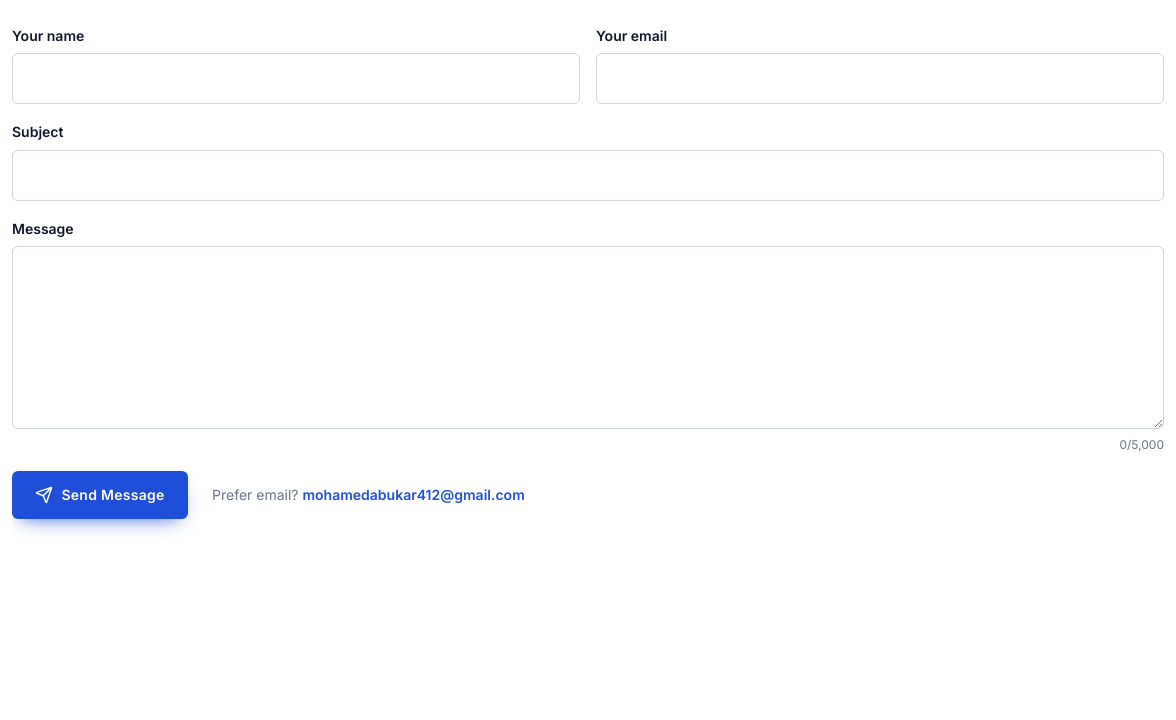
Test: ContactForm › shows field errors returned by the server
Type "Jane Doe" into the field labelled "Your name".
click(296, 79); type("Jane Doe")  # box [12,54,580,104]
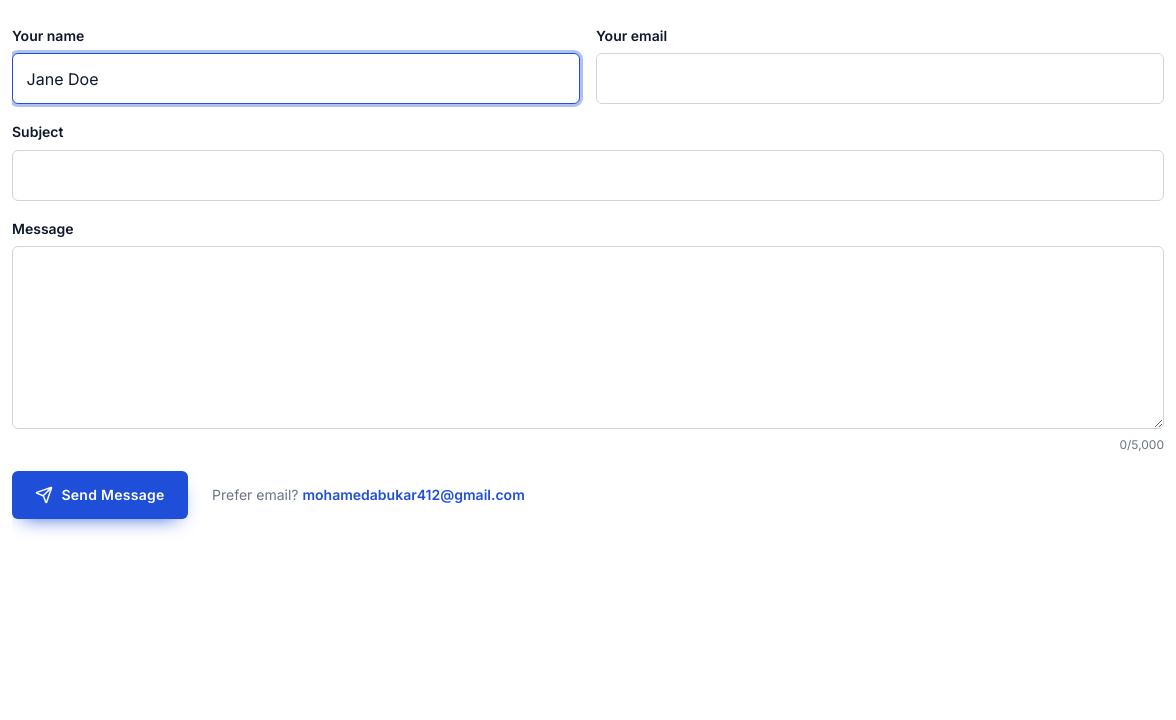
Type "jane@example.com" into the field labelled "Your email".
click(880, 79); type("jane@example.com")  # box [596,54,1164,104]
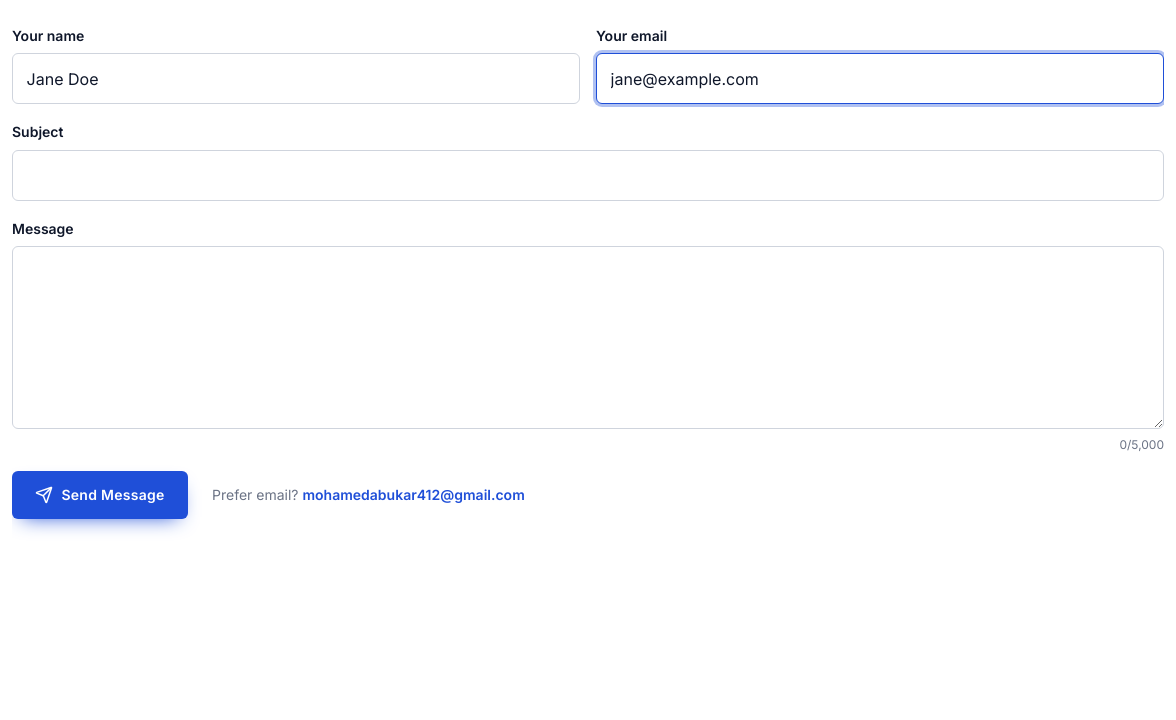
Type "Project enquiry" into the field labelled "Subject".
click(588, 175); type("Project enquiry")  # box [12,150,1164,200]
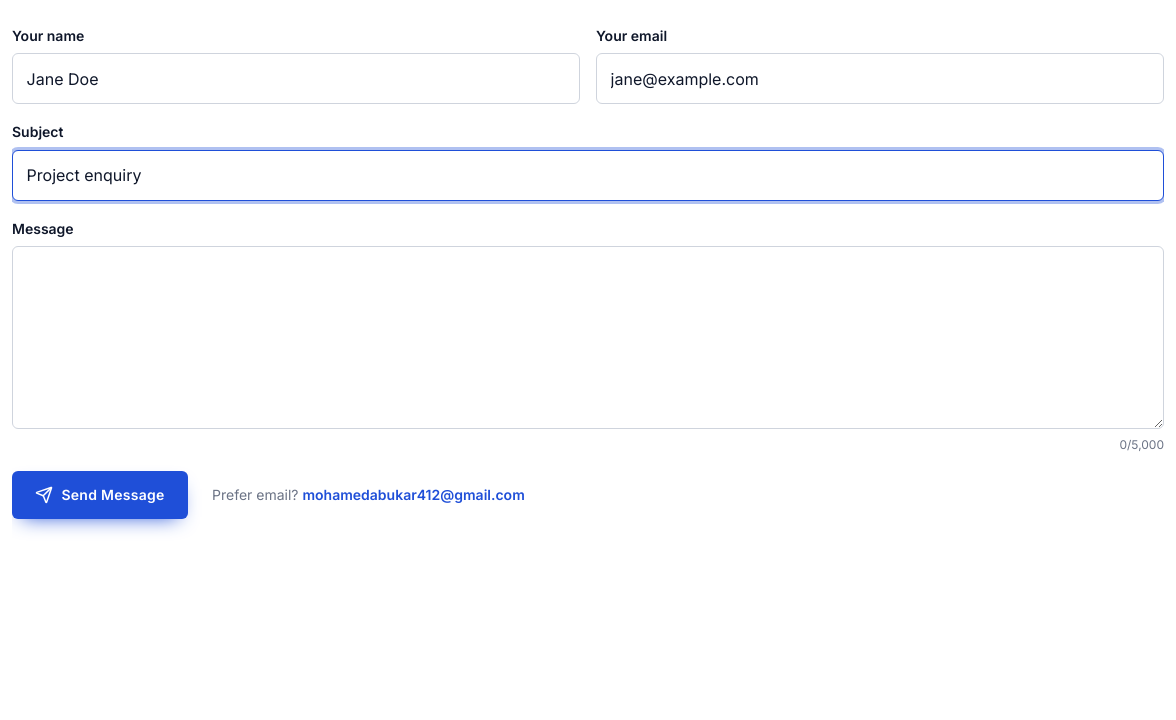
Type "Hello, I would like to talk about a project." into the text box labelled "Message".
click(588, 337); type("Hello, I would like to talk about a project.")  # box [12,246,1164,429]
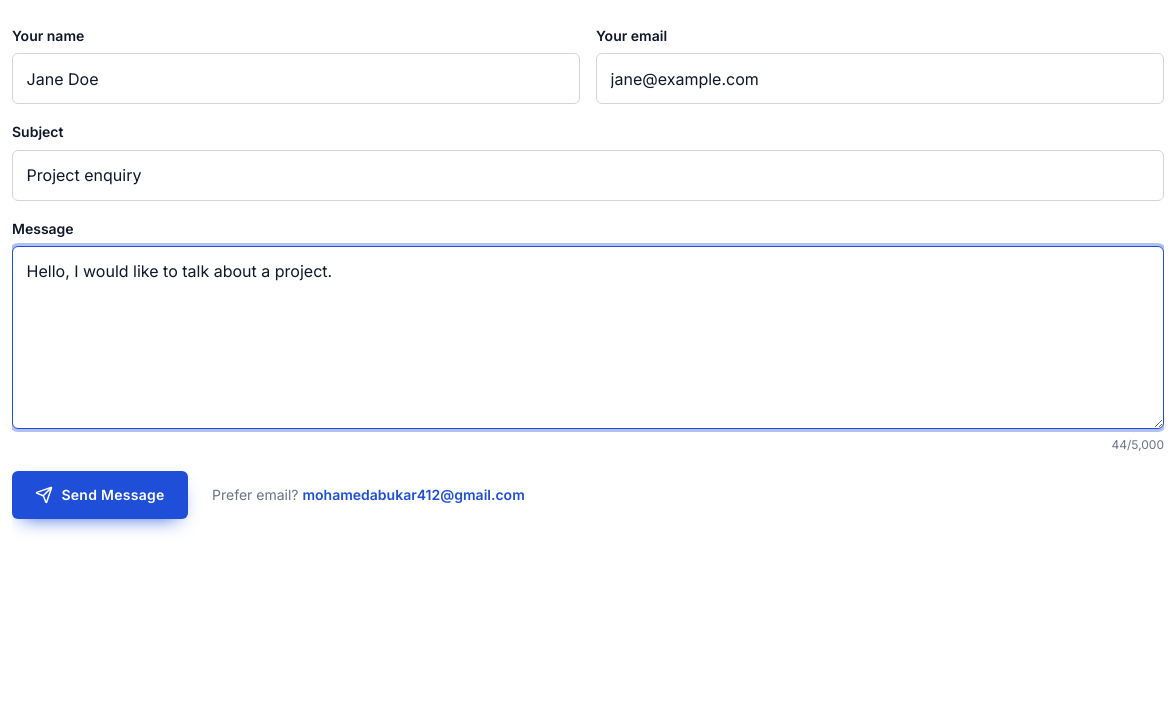
Click the button "Send Message".
click(100, 495)  # box [12,471,188,519]
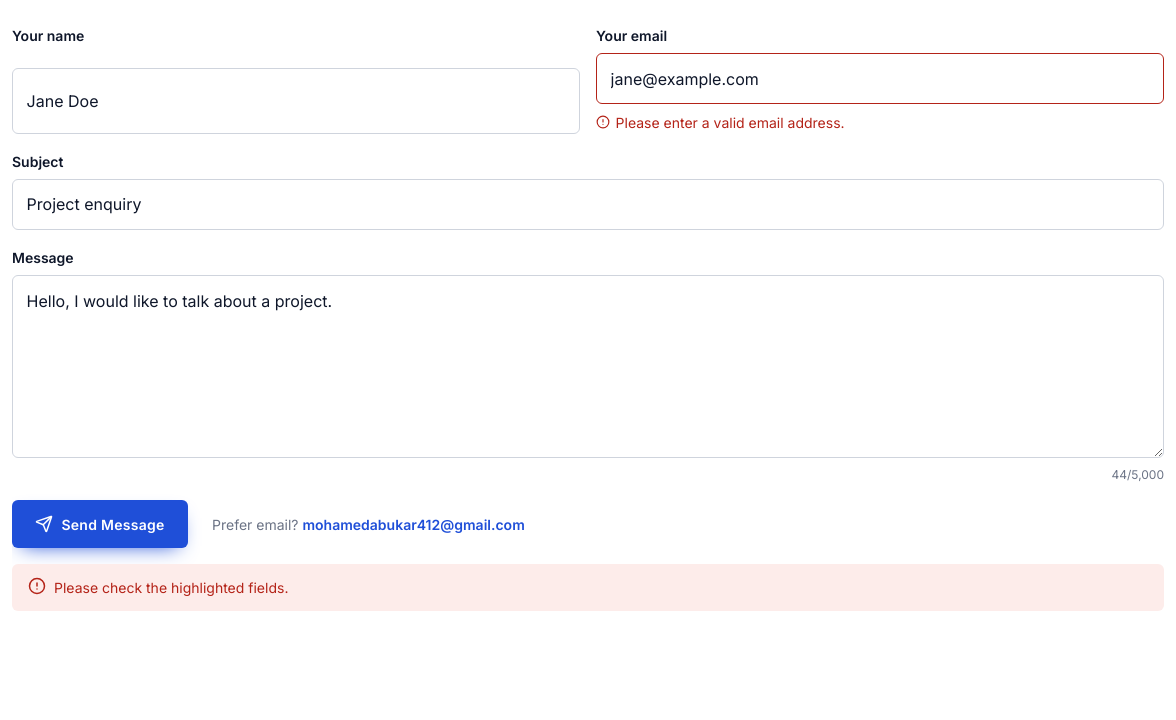
Result: the text "Please check the highlighted fields." is shown at [54,576,288,600]
